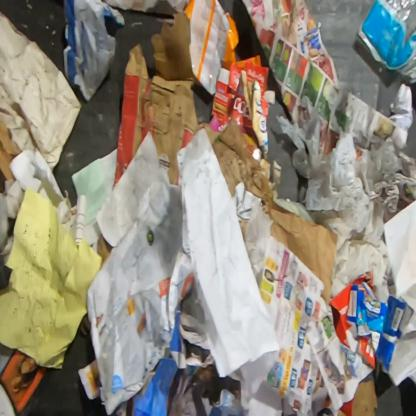cardboard: (112, 10, 223, 190), (209, 60, 276, 130), (338, 379, 380, 416)
soft_plastic: (183, 0, 262, 96), (354, 0, 415, 85)
